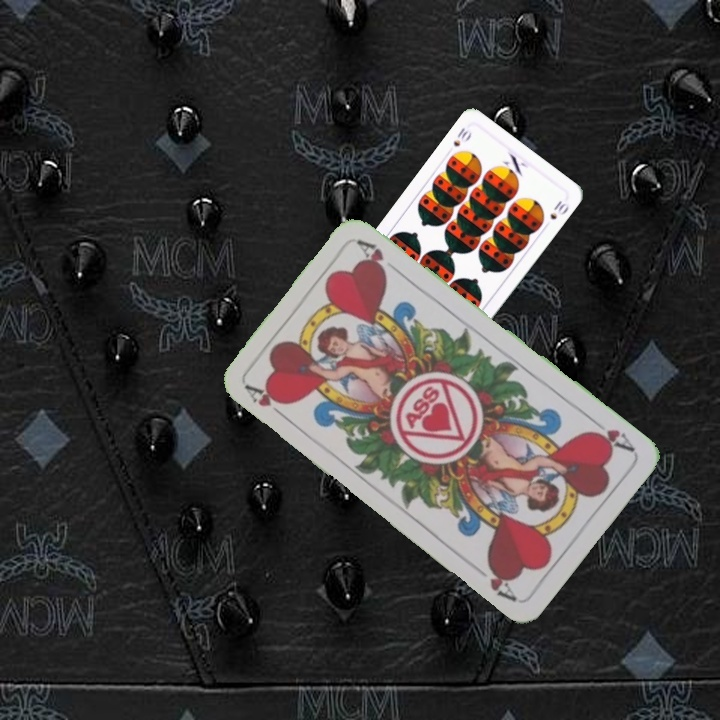HA: (241, 381, 292, 424), (584, 413, 637, 454)
S10: (449, 123, 474, 149)
